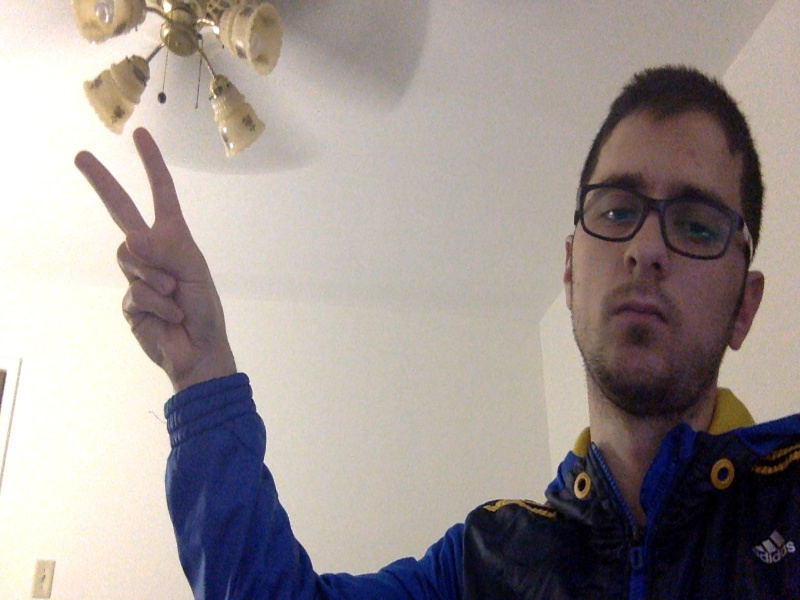2-hand: (69, 128, 224, 373)
